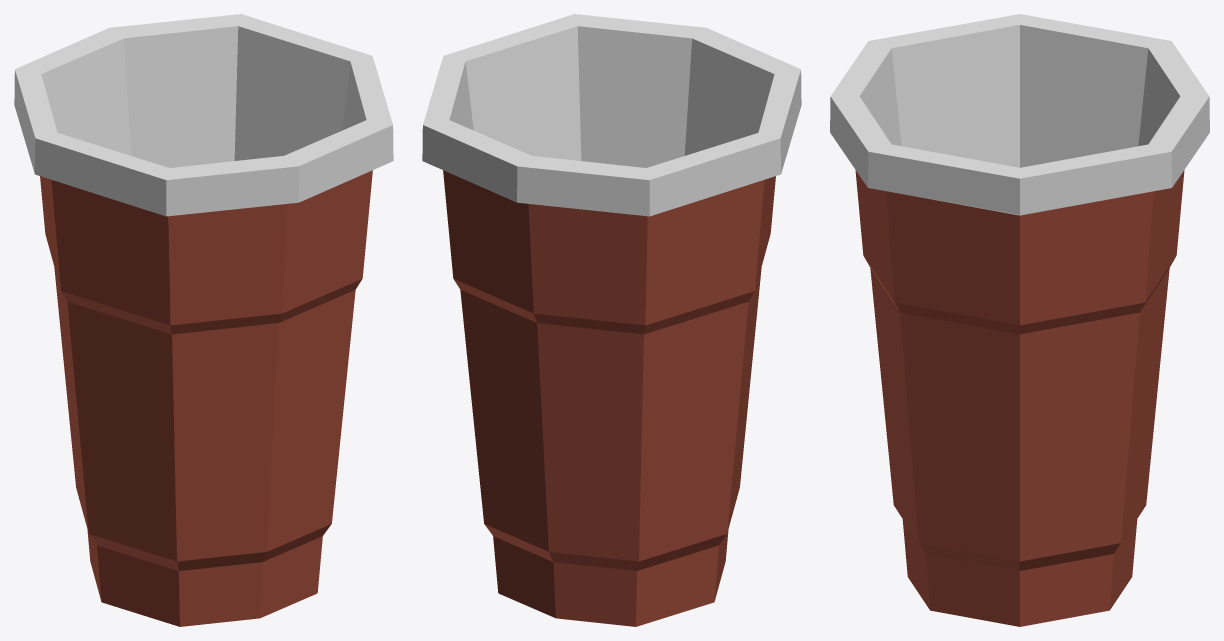
File: BeerCup.obj
3 renders of one model, left to right at view 1: azimuth 30°, elevation 25°; view 2: azimuth 150°, elevation 25°; view 3: azimuth 270°, elevation 25°, orthographic.
Bounding box in the file's own units: 0.0958 × 0.13 × 0.0932.
Materials: 1 (1 with a texture image).
